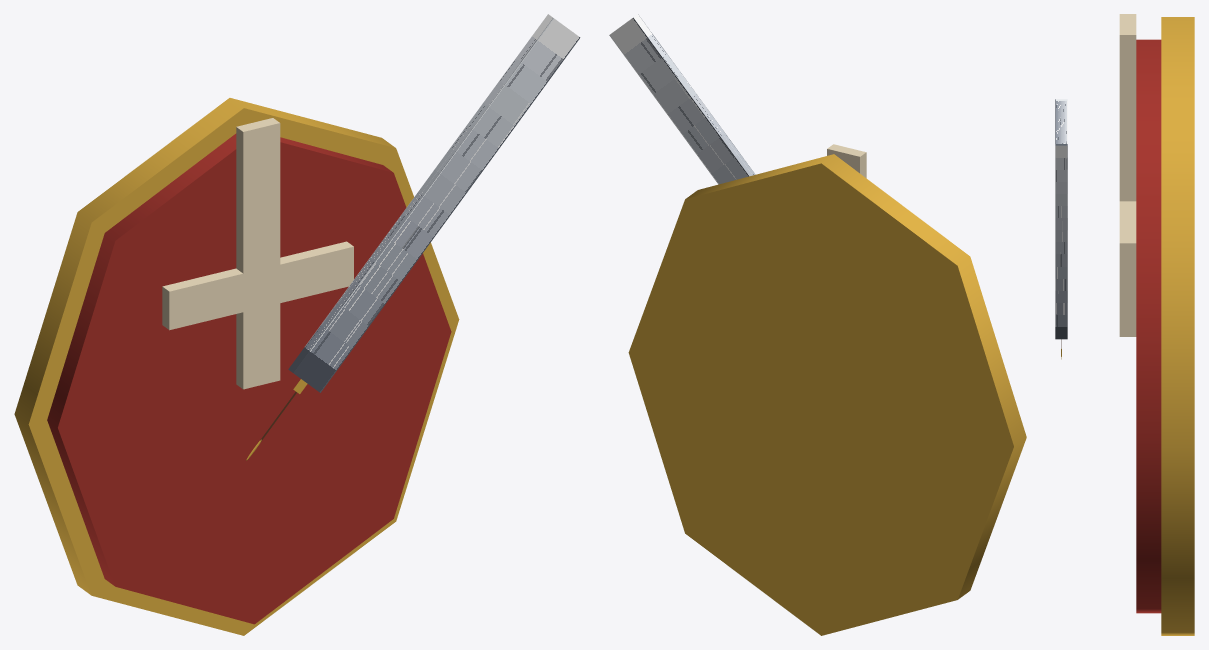
Rendered from caballero.glb.
3 views of the same model, side by side, from view 1: azimuth 30°, elevation 25°; view 2: azimuth 150°, elevation 25°; view 3: azimuth 270°, elevation 25° (orthographic). The views are drawn at different scales.
Visible parts, largest first — view 1: caballero; view 2: caballero; view 3: caballero.
Part boxes in pixels (x1,y1,x2,y2): caballero: (14, 14, 580, 635); caballero: (609, 14, 1026, 635); caballero: (1055, 14, 1194, 635).
Bounding box in the file's own units: 0.8234 × 0.9114 × 0.1675.
5 materials, 1 textured.
